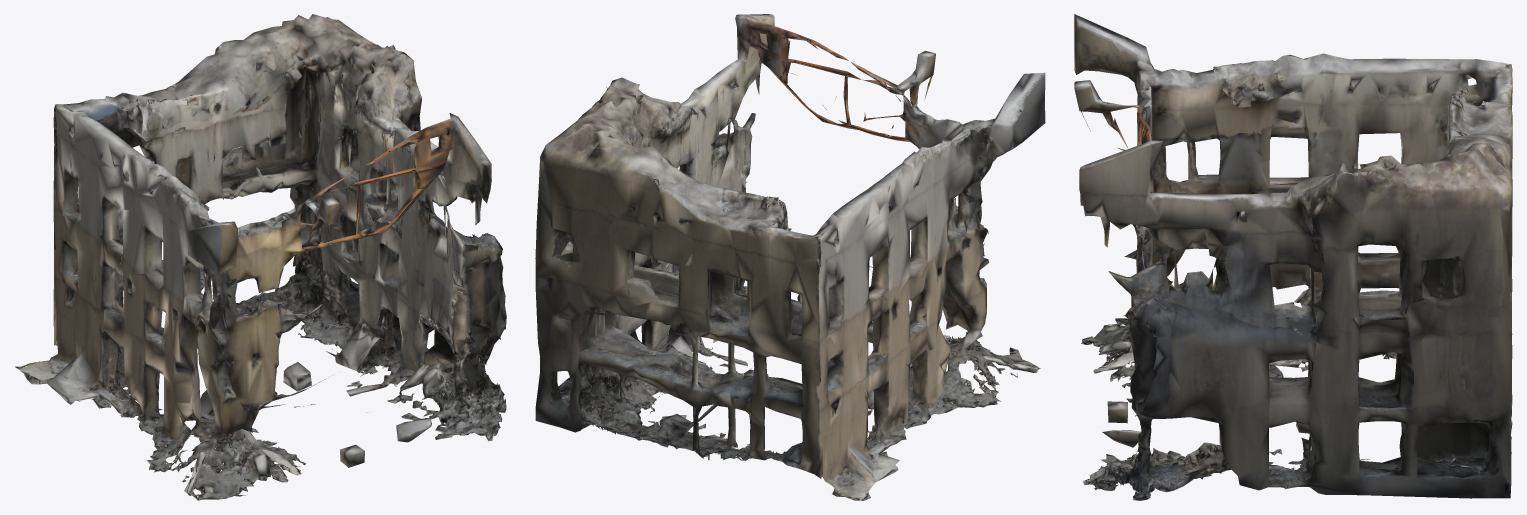
File: ruin_villa.glb
3 renders of one model, left to right at view 1: azimuth 30°, elevation 25°; view 2: azimuth 150°, elevation 25°; view 3: azimuth 270°, elevation 25°, orthographic. The views are drawn at different scales.
Parts seen in each view (by area): view 1: ruin_villa; view 2: ruin_villa; view 3: ruin_villa.
Boxes of the visible parts, x1,y1,x2,y2 form: ruin_villa: [15, 14, 506, 500]; ruin_villa: [535, 14, 1045, 500]; ruin_villa: [1074, 14, 1512, 500].
Bounding box in the file's own units: 1.96 × 1.74 × 2.
1 material, 1 textured.
